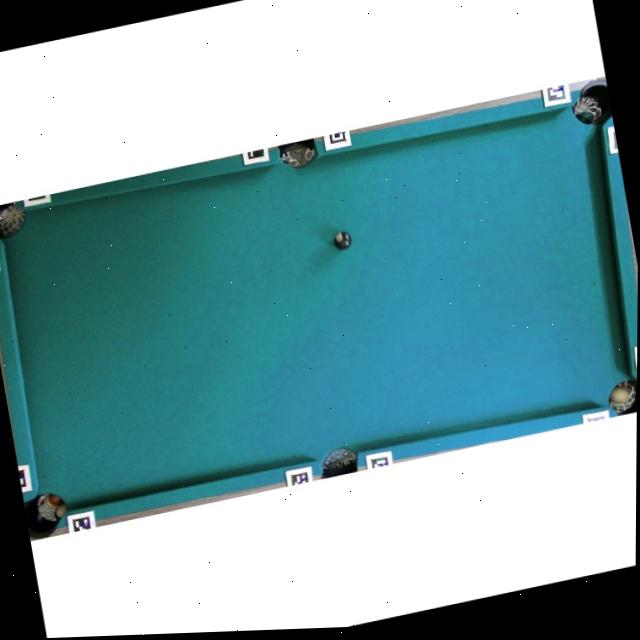other: (331, 227, 354, 252)
